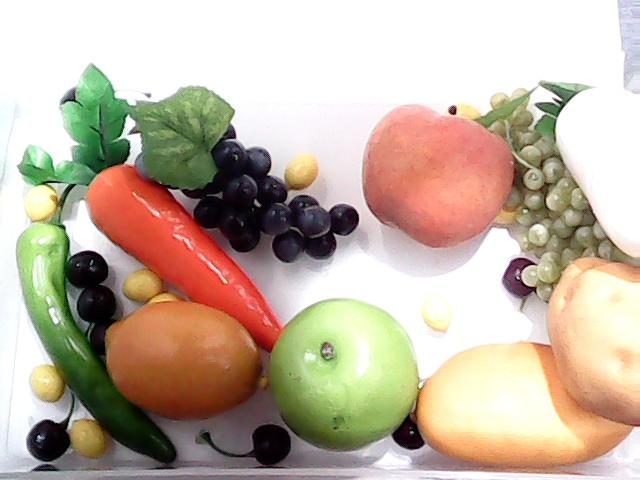apple: (253, 292, 421, 456)
carrot: (16, 63, 282, 354)
grape: (200, 120, 368, 272), (494, 97, 614, 275)
lemon: (89, 300, 284, 428)
mango: (416, 342, 640, 470)
peach: (360, 104, 516, 251)
pepper: (14, 175, 186, 465)
potato: (547, 255, 640, 426)
radish: (532, 78, 640, 257)
